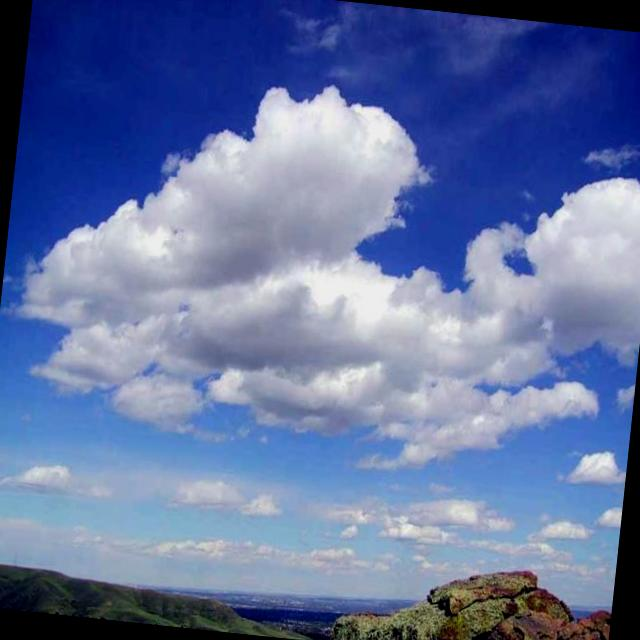cumulus: (6, 52, 640, 474)
